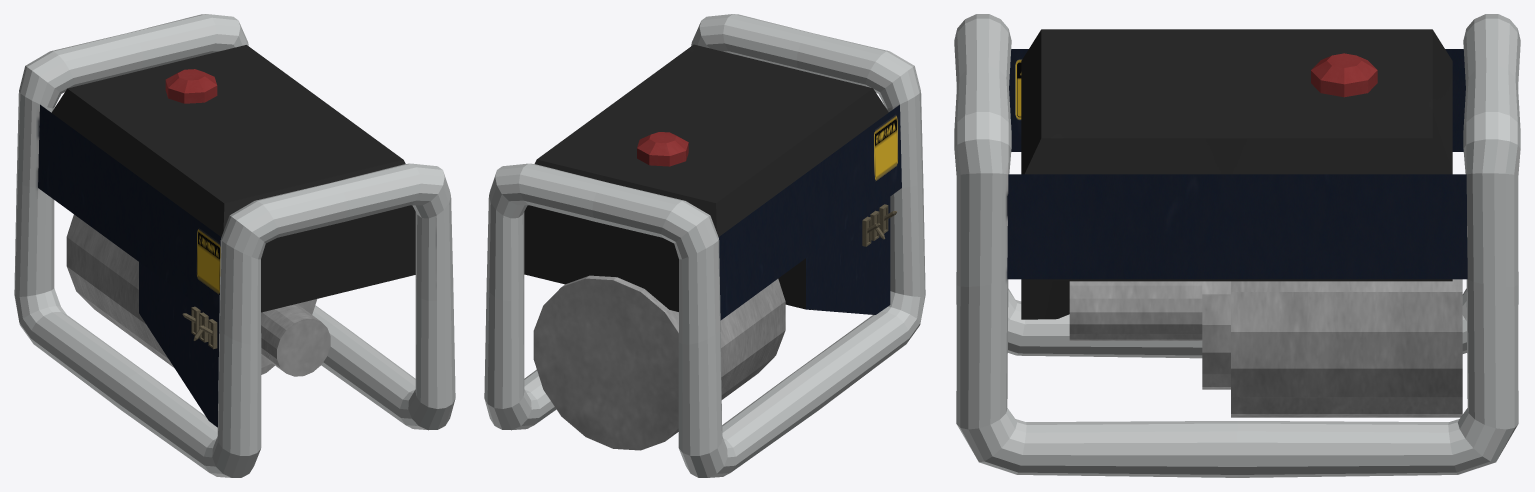
The model's file is Generator_0.3.fbx.
3 views of the same model, side by side, from view 1: azimuth 30°, elevation 25°; view 2: azimuth 150°, elevation 25°; view 3: azimuth 270°, elevation 25° (orthographic). The views are drawn at different scales.
Parts seen in each view (by area): view 1: GENERATOR; view 2: GENERATOR; view 3: GENERATOR.
Boxes of the visible parts, <box> form: GENERATOR: <box>14,14,455,477</box>; GENERATOR: <box>484,14,925,477</box>; GENERATOR: <box>954,14,1520,477</box>.
Size of the model in its own units: 83.04 by 139 by 96.2.
